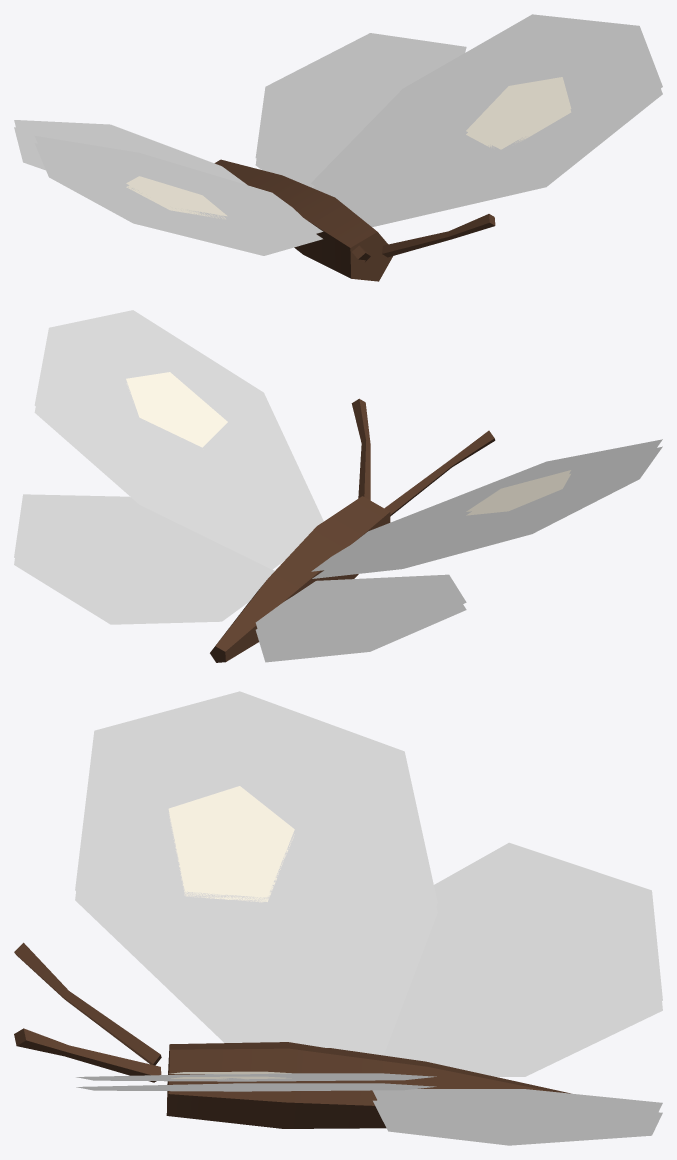
File: butterfly.glb
3 renders of one model, top to bottom at view 1: azimuth 30°, elevation 25°; view 2: azimuth 150°, elevation 25°; view 3: azimuth 270°, elevation 25°, orthographic. The views are drawn at different scales.
Visible parts, largest first — view 1: Part_RoofTint, Part_TimberDark, WingSpots; view 2: Part_RoofTint, Part_TimberDark, WingSpots; view 3: Part_RoofTint, Part_TimberDark, WingSpots.
Boxes of the visible parts, left/top/right/bottom form: Part_RoofTint: left=14, top=14, right=662, bottom=255; Part_TimberDark: left=214, top=159, right=495, bottom=281; WingSpots: left=126, top=77, right=571, bottom=219; Part_RoofTint: left=14, top=310, right=662, bottom=662; Part_TimberDark: left=210, top=398, right=495, bottom=662; WingSpots: left=126, top=372, right=570, bottom=515; Part_RoofTint: left=75, top=691, right=662, bottom=1145; Part_TimberDark: left=14, top=942, right=570, bottom=1128; WingSpots: left=168, top=786, right=294, bottom=1079.
Bounding box in the file's own units: 0.3362 × 0.0951 × 0.2362.
